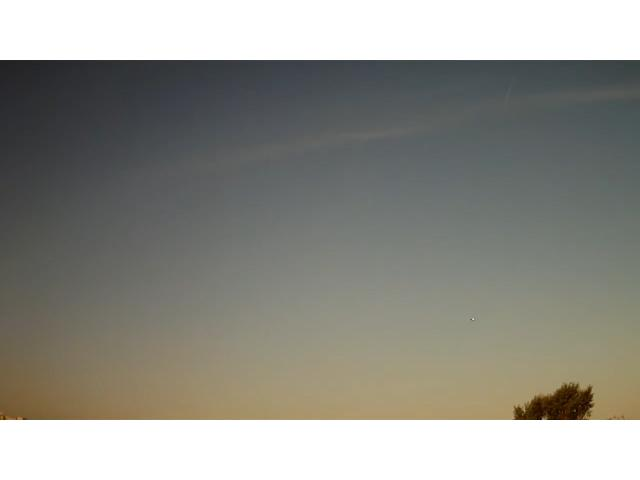Anti-Drone: (467, 312, 485, 328)
